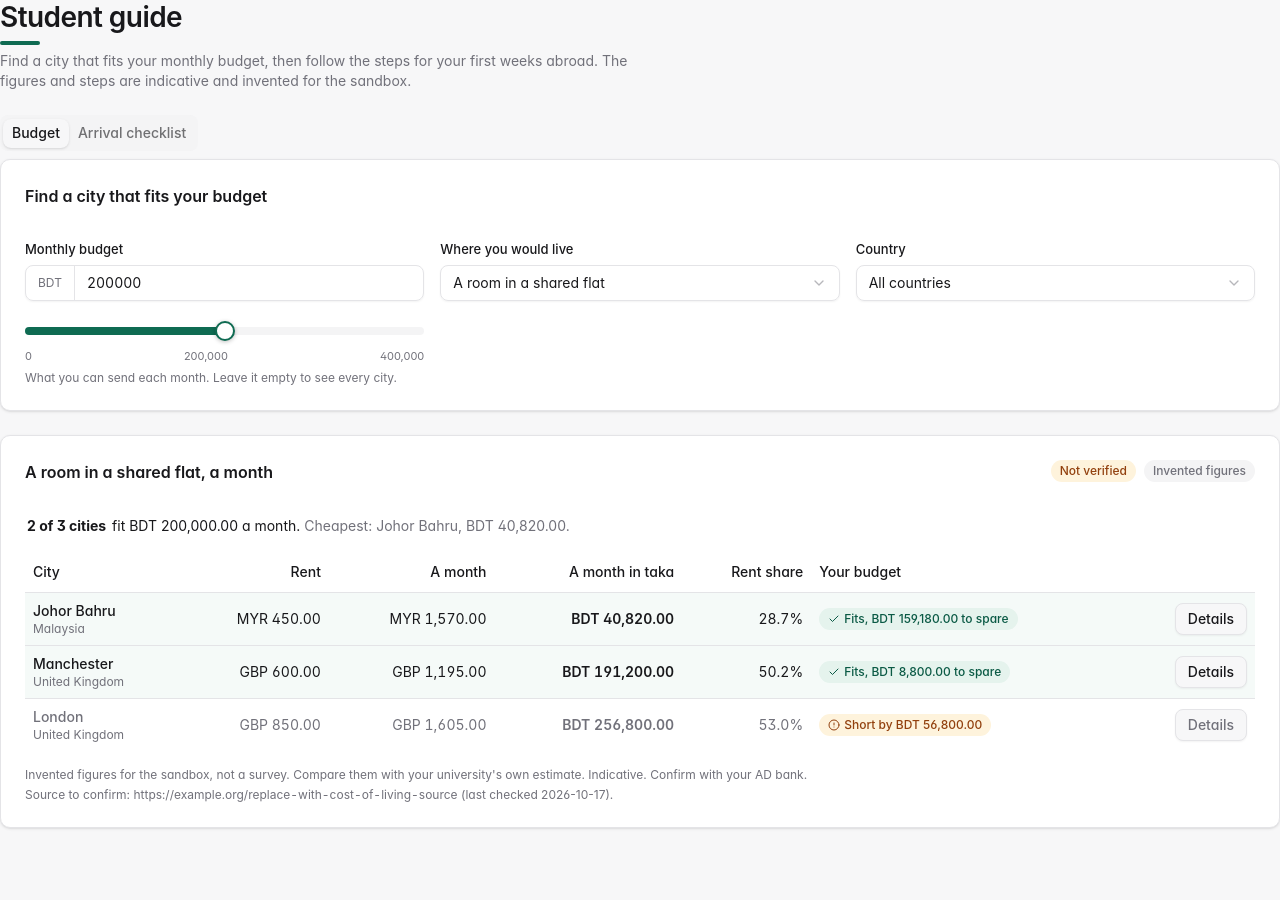
Test: student guide: the budget › opens a city's month line by line from the engine's own figures
Click the button with aria-label "Details for Manchester" at (1211, 672), box [1175,656,1247,688]
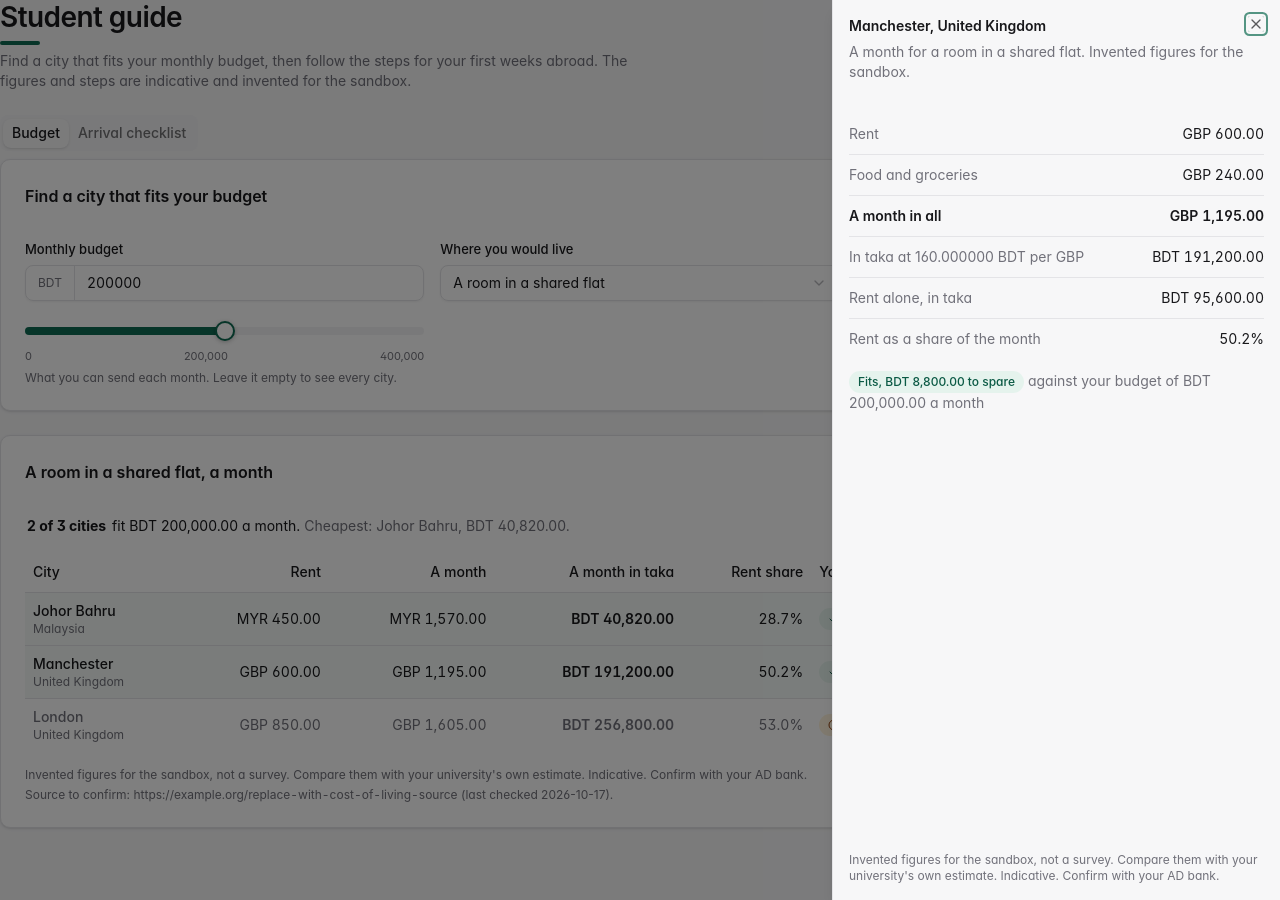
Now the text "Food and groceries" is shown, box [849,165,978,185]
Now the text "GBP 1,195.00" is shown, box [1170,206,1264,226]
Now the text "In taka at 160.000000 BDT per GBP" is shown, box [849,247,1084,267]
